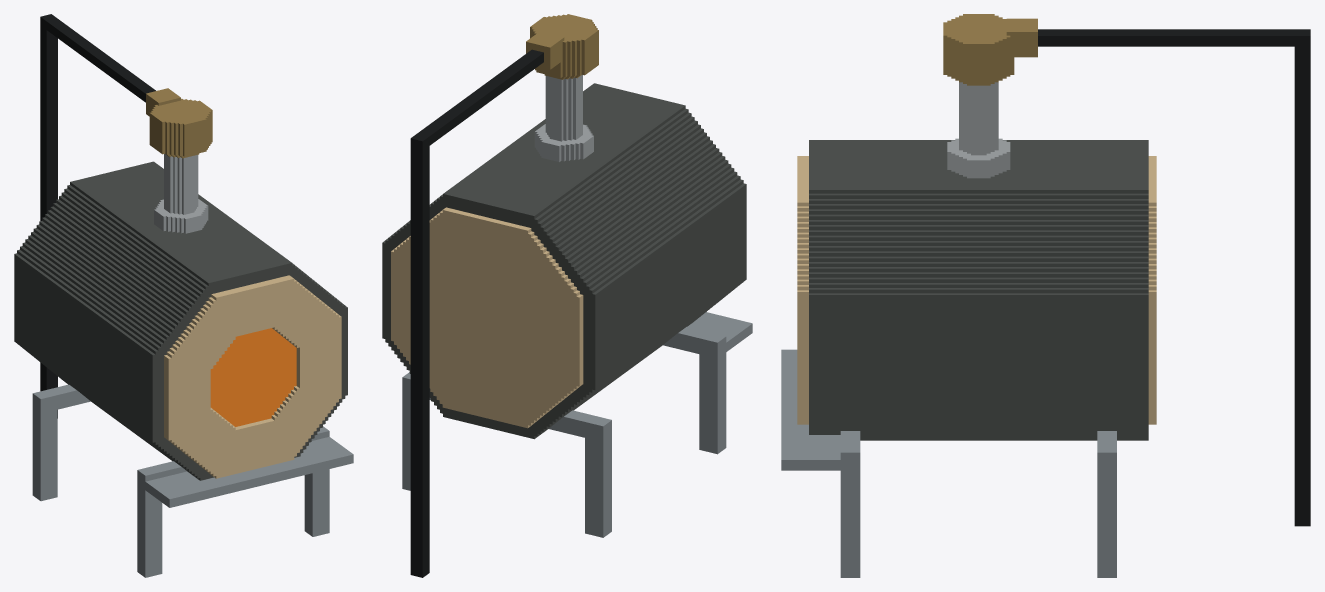
Rendered from gas_forge.glb.
3 renders of one model, left to right at view 1: azimuth 30°, elevation 25°; view 2: azimuth 150°, elevation 25°; view 3: azimuth 270°, elevation 25°, orthographic. The views are drawn at different scales.
Parts seen in each view (by area): view 1: gas_forge:compound; view 2: gas_forge:compound; view 3: gas_forge:compound.
Boxes of the visible parts, box(x1,y1,x2,y2) form: gas_forge:compound: box(14, 14, 353, 577); gas_forge:compound: box(382, 14, 752, 577); gas_forge:compound: box(781, 14, 1310, 577).
Size of the model in its own units: 0.28 by 0.556 by 0.536.
